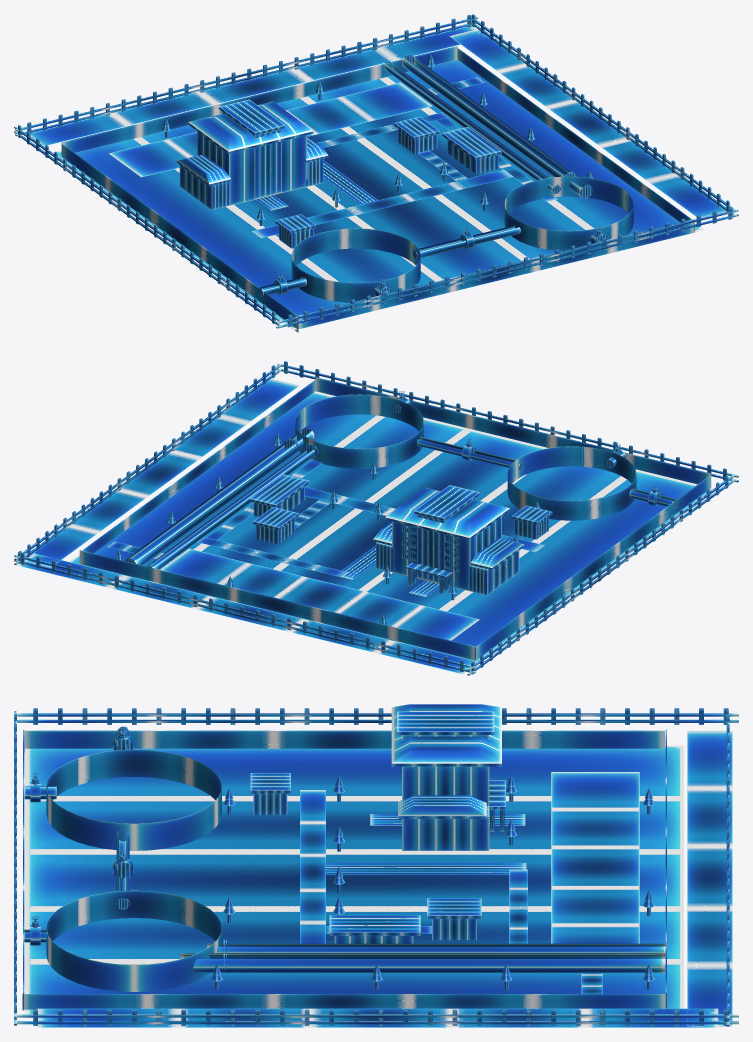
File: shuichang_glb2.gltf
The picture shows the model from 3 angles, top to bottom: view 1: azimuth 30°, elevation 25°; view 2: azimuth 150°, elevation 25°; view 3: azimuth 270°, elevation 25°; orthographic projection. The views are drawn at different scales.
Visible parts, largest first — view 1: 空白.1, 水井, 管道; view 2: 空白.1, 水井, 管道; view 3: 空白.1, 水井, 管道.
Part boxes in pixels (x1,y1,x2,y2): 空白.1: (14, 14, 738, 332); 水井: (291, 176, 633, 302); 管道: (258, 54, 607, 296); 空白.1: (14, 361, 738, 675); 水井: (295, 394, 636, 520); 管道: (124, 391, 677, 569); 空白.1: (14, 704, 738, 1027); 水井: (46, 749, 221, 991); 管道: (24, 726, 666, 972).
Size of the model in its own units: 104 by 16.36 by 104.
Materials: 1 (1 with a texture image).
